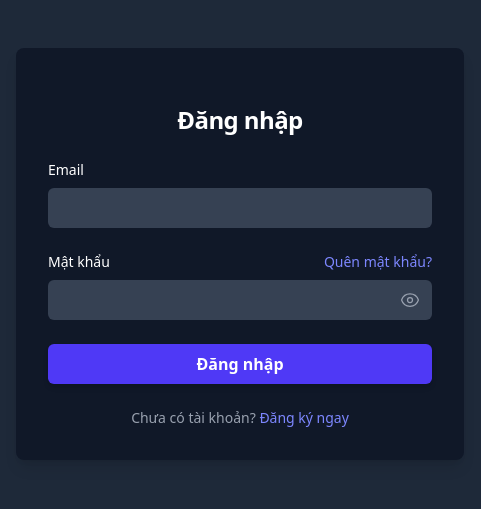
it: LoginPage › should display an error message on failed login
The width and height of the screenshot is (481, 509).
Type "wrong@test.com" into the field labelled "Email" at (240, 208), box [48,188,432,228]
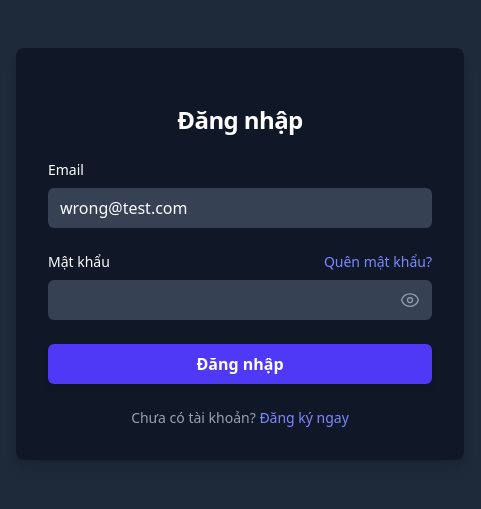
Type "wrongpass" into the password field labelled "Mật khẩu" at (240, 300), box [48,280,432,320]
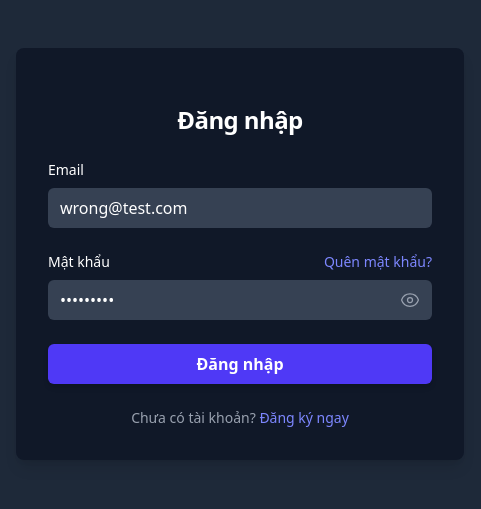
Click the button "Đăng nhập" at (240, 364), box [48,344,432,384]
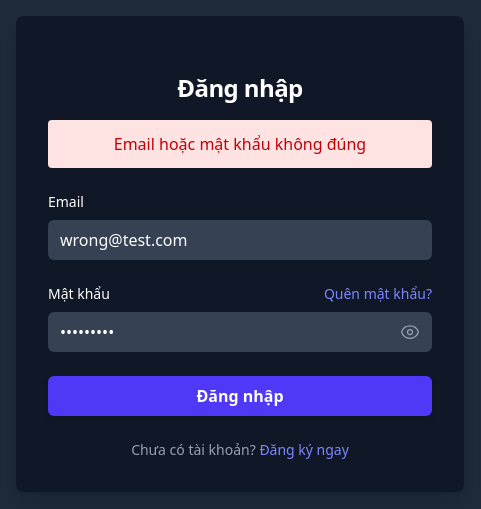
Expected: the text "Email hoặc mật khẩu không đúng" is shown, [48,120,432,168]
